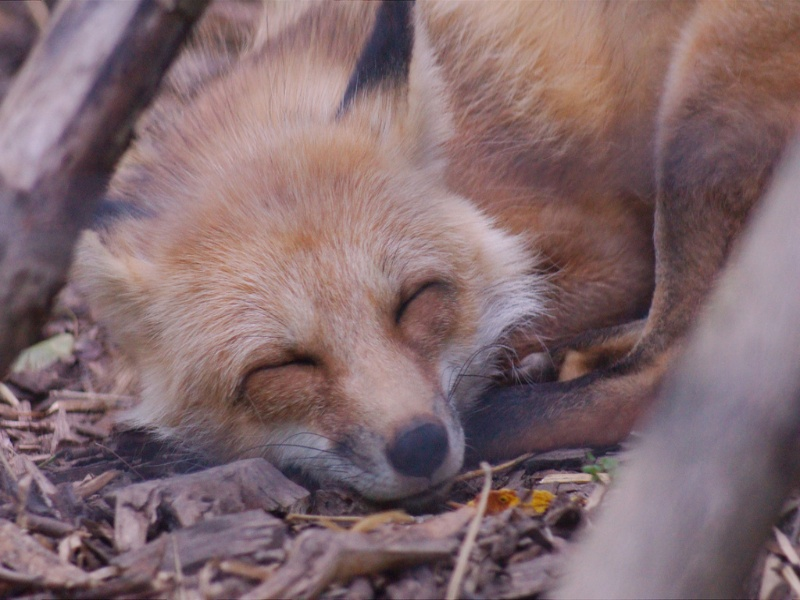fox: (96, 1, 783, 498)
